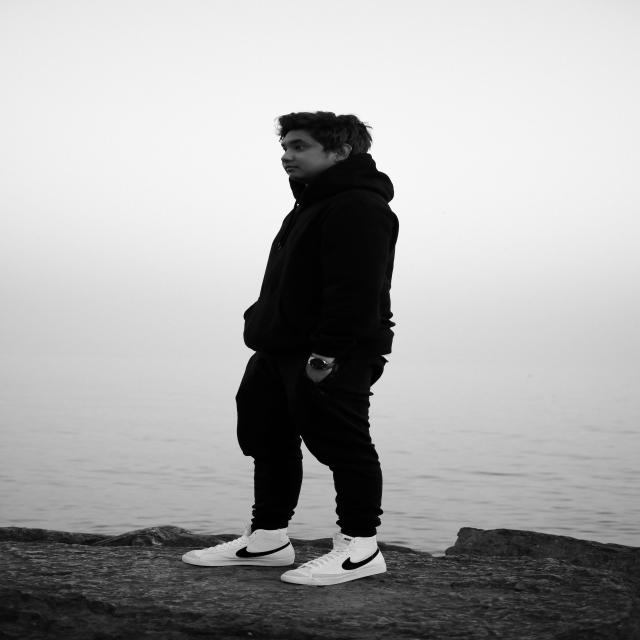standing: (180, 103, 399, 590)
